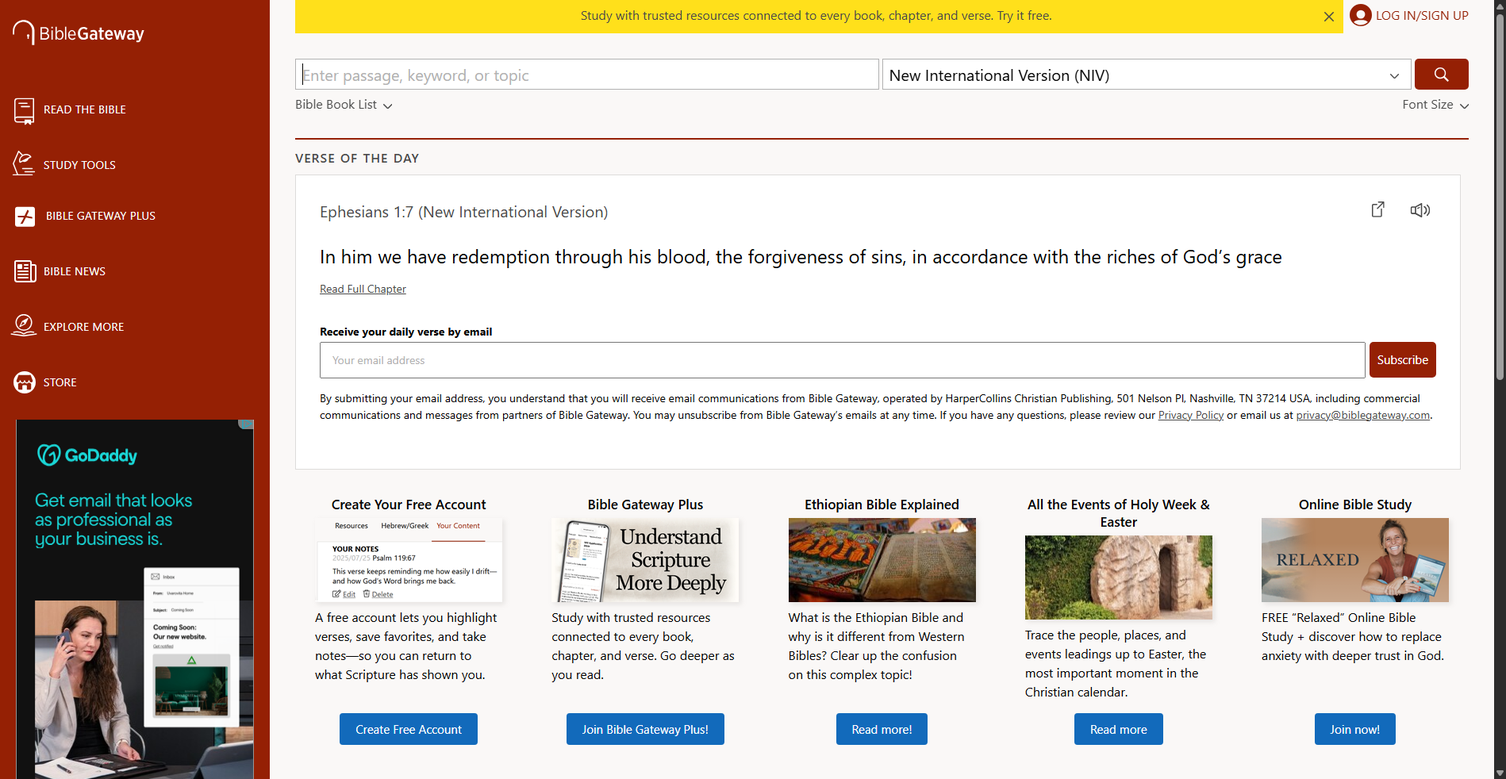general_button: (788, 701, 976, 757), (315, 701, 502, 757), (552, 701, 739, 757), (1025, 701, 1212, 757), (1262, 701, 1449, 757), (566, 713, 724, 745), (340, 713, 478, 745), (1343, 0, 1469, 33), (836, 713, 928, 745), (1074, 713, 1163, 745), (1314, 713, 1396, 745), (1369, 342, 1436, 378), (295, 96, 392, 113), (1402, 96, 1469, 113)
general_image: (788, 518, 976, 602), (315, 518, 502, 602), (552, 518, 739, 602), (1025, 535, 1212, 619), (1262, 518, 1449, 602)
general_input: (320, 342, 1365, 378)
general_link: (320, 199, 1372, 223), (0, 193, 270, 243), (581, 6, 1052, 23), (13, 20, 144, 49), (29, 140, 263, 154), (29, 160, 263, 174), (29, 377, 263, 391), (29, 397, 263, 411), (29, 417, 263, 431), (29, 413, 263, 427), (788, 588, 976, 605), (315, 588, 502, 605), (552, 588, 739, 605), (1025, 606, 1212, 623), (1262, 588, 1449, 605), (29, 180, 263, 193), (29, 200, 263, 213), (29, 196, 263, 209), (29, 216, 263, 229), (29, 358, 263, 371), (29, 433, 263, 446), (29, 453, 263, 466), (13, 258, 106, 284), (1296, 407, 1430, 422), (295, 96, 392, 113), (1376, 8, 1469, 25), (320, 281, 406, 296), (1158, 407, 1224, 422), (1404, 200, 1436, 221), (1372, 200, 1389, 221)
icon_menu: (13, 152, 33, 178), (15, 205, 35, 231), (13, 258, 33, 284), (13, 97, 33, 122), (13, 314, 33, 339), (13, 370, 33, 395)
icon_profile: (1343, 4, 1376, 29)
icon_search: (295, 59, 879, 90), (882, 59, 1412, 90), (1415, 59, 1469, 90), (1385, 70, 1404, 79)
